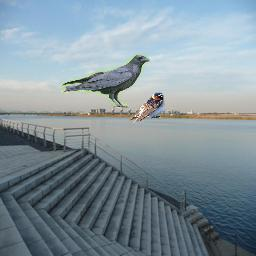Crow: (61, 54, 151, 108)
Swallow: (129, 92, 165, 123)
